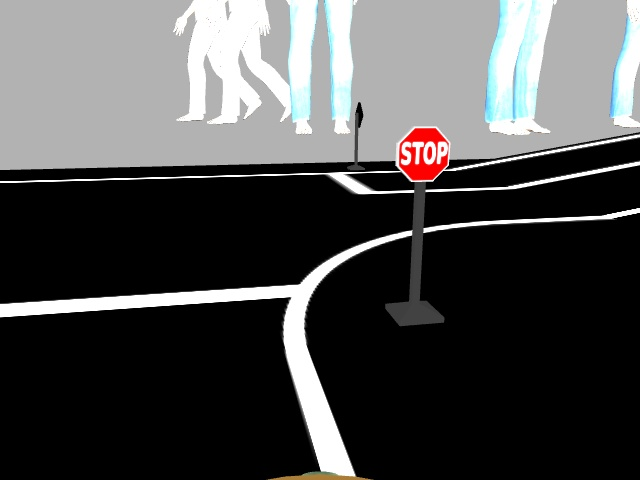Stop: (397, 125, 450, 180)
